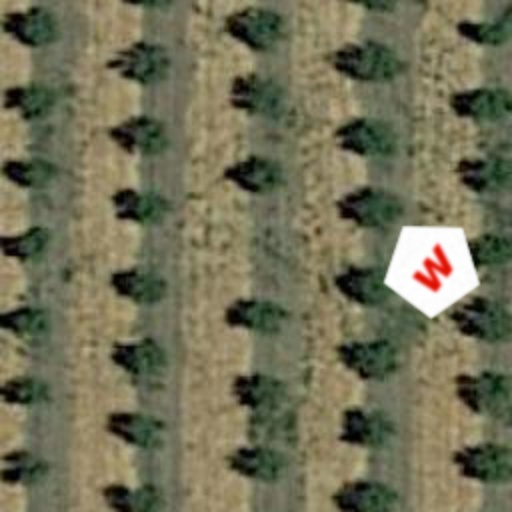pentagon: (360, 196, 504, 340)
